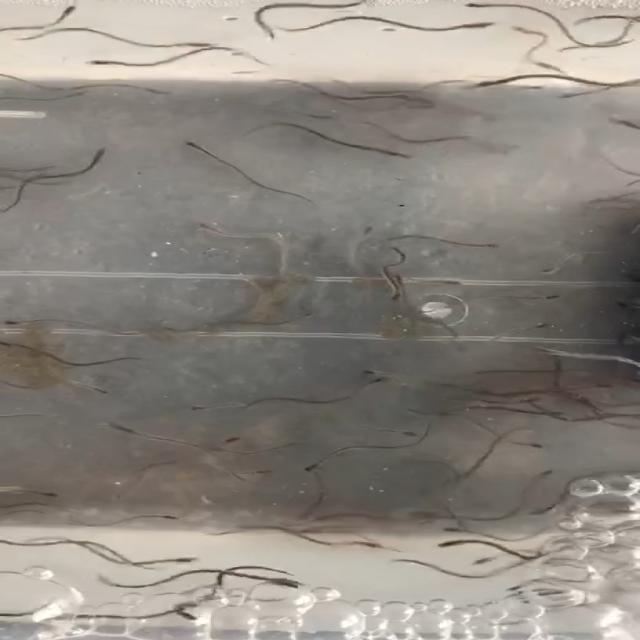active_glass_eel: (453, 18, 501, 33), (471, 554, 515, 570), (525, 466, 560, 486), (198, 221, 232, 241), (118, 84, 170, 97), (263, 576, 300, 592), (180, 402, 222, 416), (398, 92, 443, 105), (187, 143, 222, 159), (440, 521, 486, 533), (83, 60, 137, 70), (448, 472, 486, 486), (109, 422, 146, 436), (180, 38, 218, 51), (79, 385, 117, 398), (381, 146, 416, 160), (357, 366, 392, 380), (433, 538, 471, 550), (517, 436, 552, 449), (354, 537, 384, 552), (460, 0, 508, 9), (221, 432, 245, 450), (171, 555, 203, 568), (476, 78, 510, 90), (527, 293, 570, 302), (28, 490, 66, 500), (355, 222, 376, 240), (258, 23, 280, 40), (536, 265, 566, 277), (0, 313, 30, 325), (93, 145, 111, 164), (303, 460, 329, 473), (294, 308, 318, 322), (523, 506, 560, 515), (471, 240, 504, 250), (158, 514, 186, 525), (174, 613, 198, 625), (363, 375, 389, 386), (393, 428, 422, 437), (68, 89, 90, 100), (394, 274, 409, 290), (441, 279, 470, 287), (61, 5, 78, 18), (388, 288, 402, 302)
